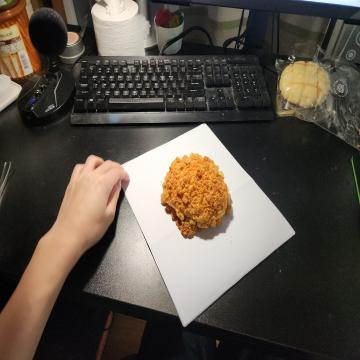soboru_bread: (160, 154, 229, 238)
